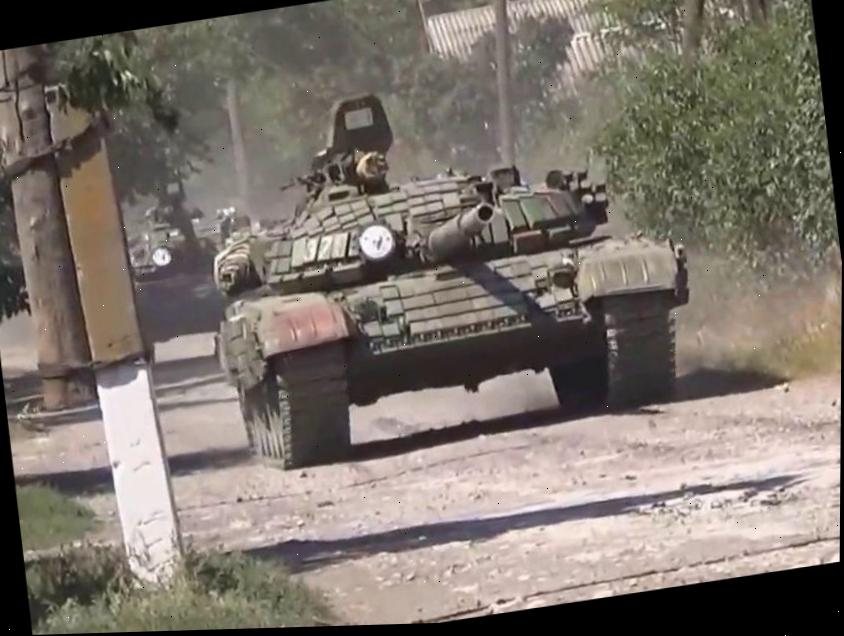tank: (181, 43, 708, 480), (115, 164, 266, 349)
